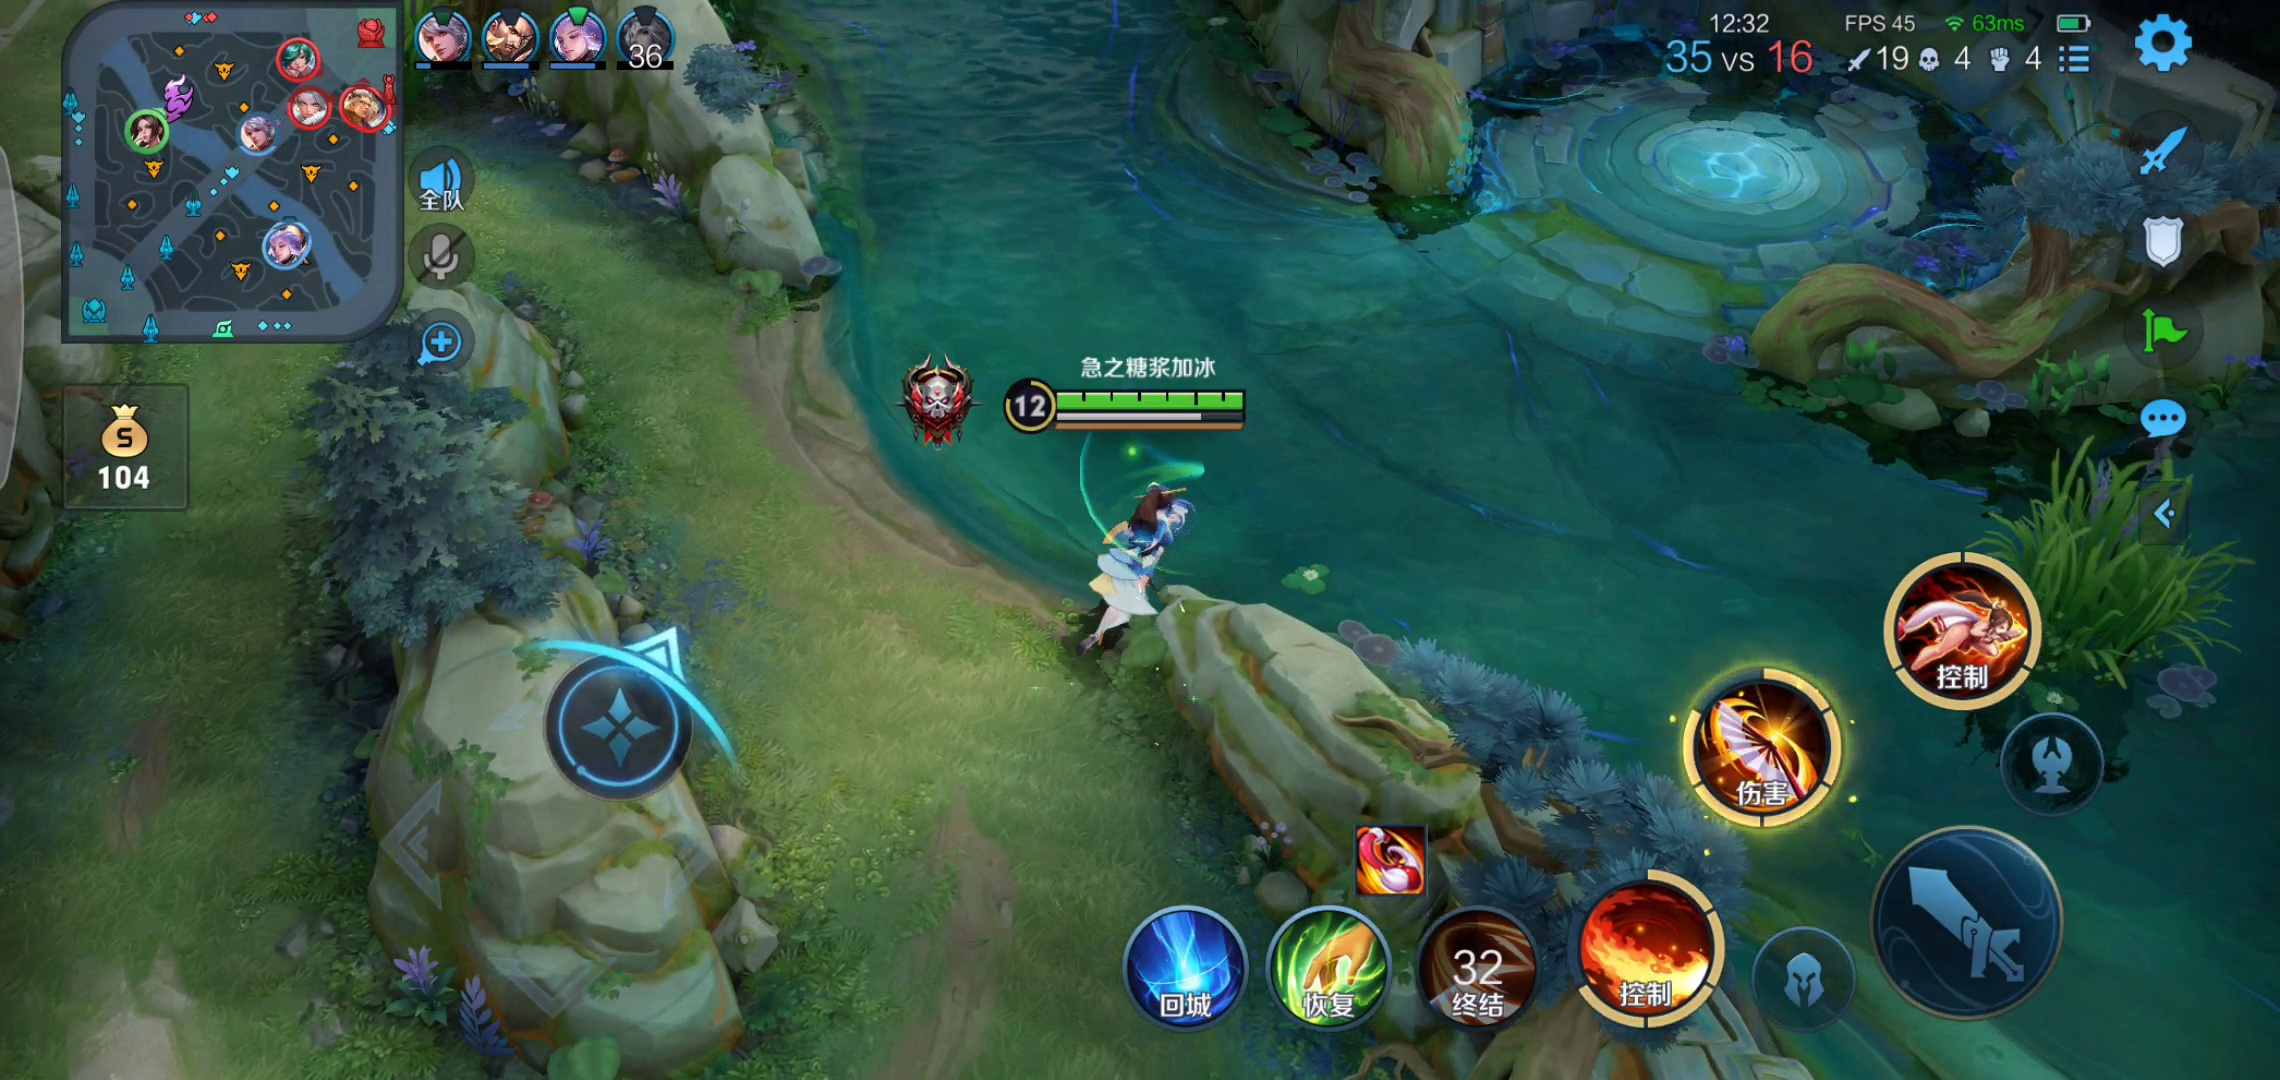grass: (1951, 458, 2228, 720)
hero: (1056, 459, 1208, 656)
